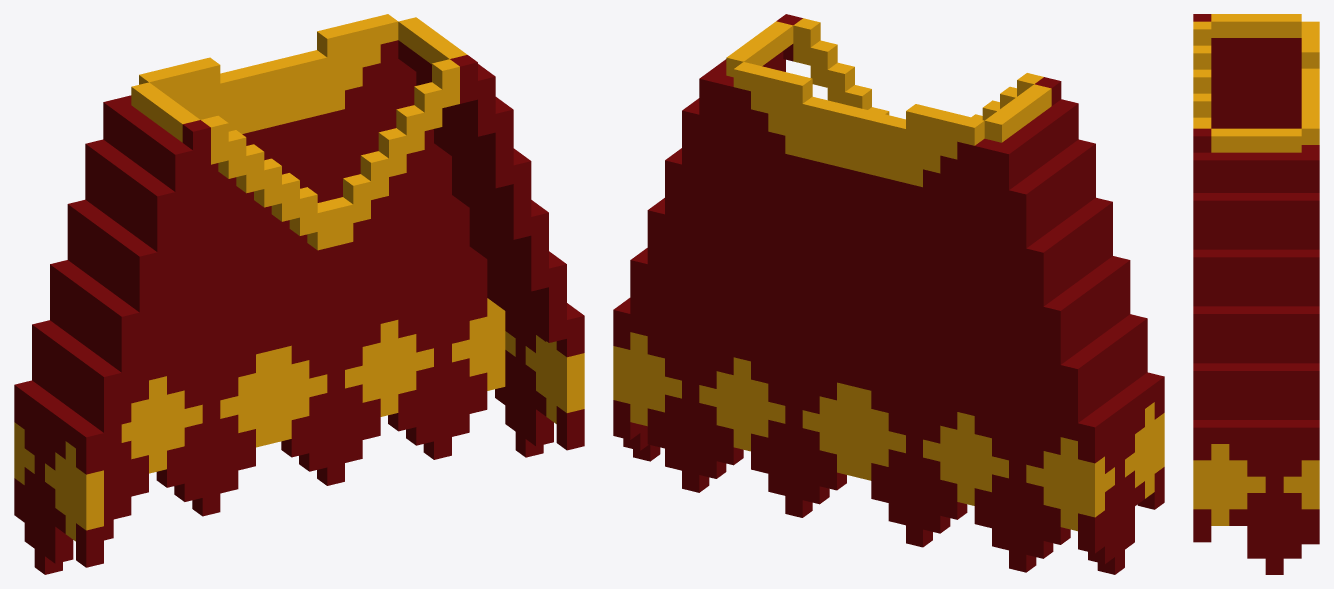
Rendered from cloak v. 3.obj.
3 views of the same model, side by side, from view 1: azimuth 30°, elevation 25°; view 2: azimuth 150°, elevation 25°; view 3: azimuth 270°, elevation 25° (orthographic). The views are drawn at different scales.
Bounding box in the file's own units: 28 × 24 × 7.
1 material, 1 textured.
